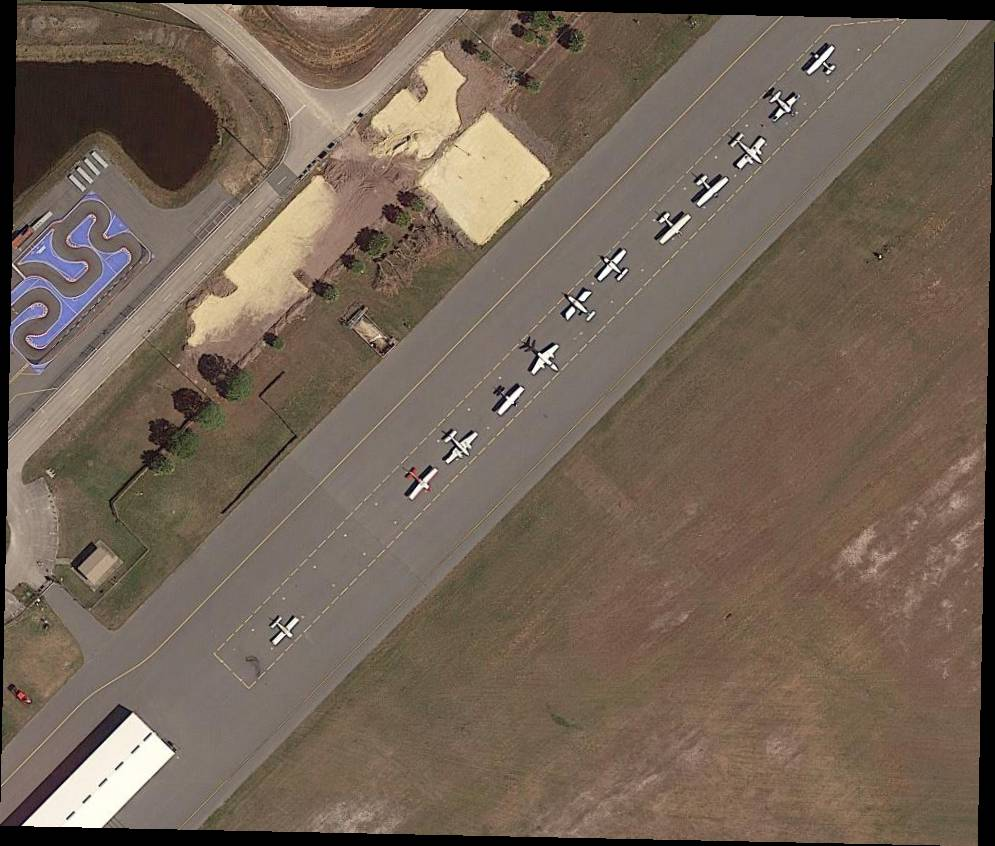plane: (722, 124, 776, 179), (517, 334, 573, 387), (431, 418, 484, 472), (395, 455, 445, 506), (648, 202, 697, 252), (556, 281, 604, 332), (685, 163, 734, 212), (589, 242, 637, 292), (760, 82, 808, 131), (799, 38, 847, 85), (262, 606, 307, 654), (486, 374, 529, 420)
